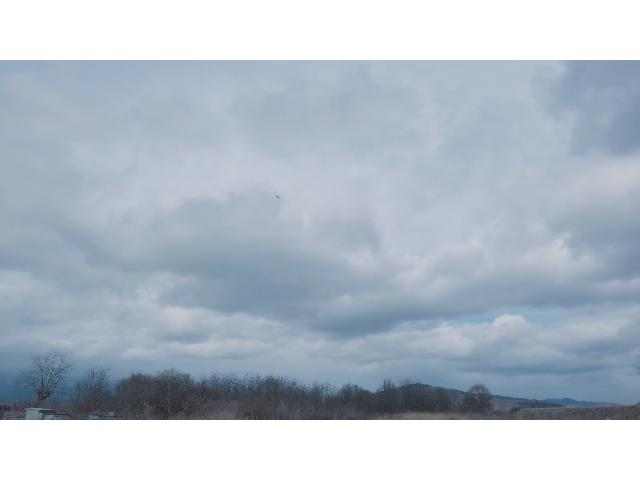Anti-Drone: (272, 193, 284, 203)
